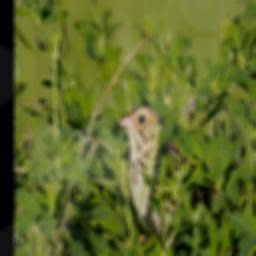Sparrow: (115, 102, 217, 256)
